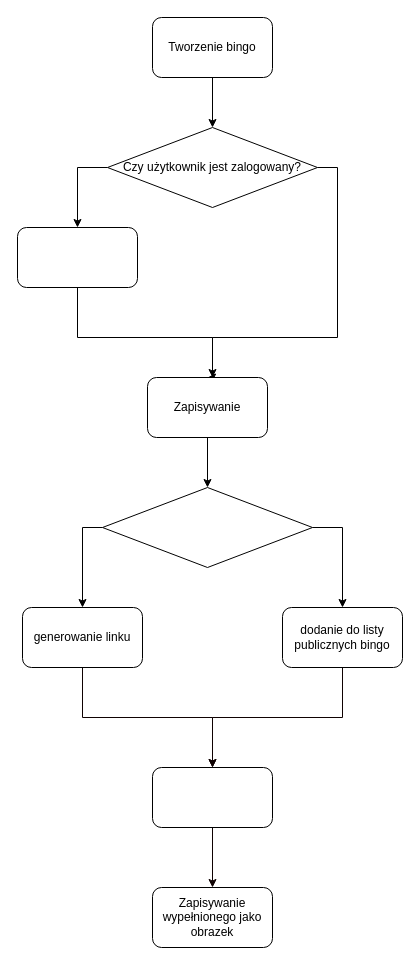
Some shapes in this 420 by 965 pixel diagram are drawn without their labels. Here are the shapes that lost their labels. From the top down, the box of each, then its label:
(16, 226, 138, 288): Rejestracja / logowanie
(102, 486, 312, 568): Czy bingo jest publiczne?
(152, 766, 272, 828): korzystanie z bingo
